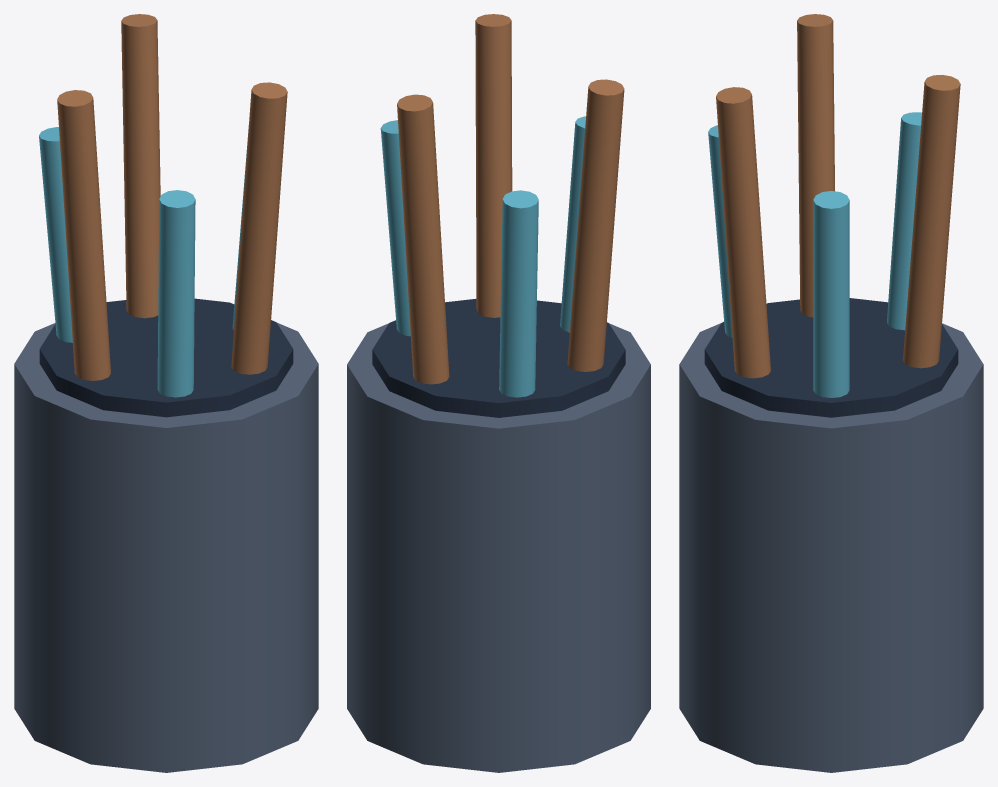
File: officePenCup.glb
3 views of the same model, side by side, from view 1: azimuth 30°, elevation 25°; view 2: azimuth 150°, elevation 25°; view 3: azimuth 270°, elevation 25° (orthographic).
Bounding box in the file's own units: 0.084 × 0.1954 × 0.084.
